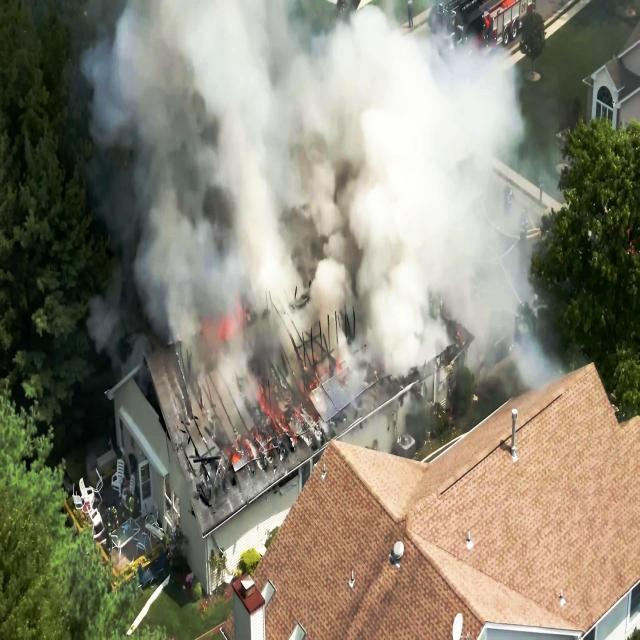Fire: (172, 316, 346, 471)
Smoke: (76, 0, 538, 311), (348, 316, 434, 398)
